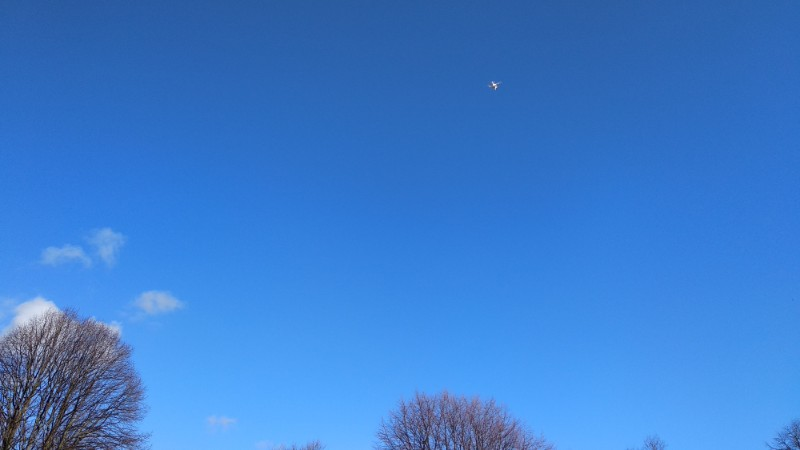drone: (487, 78, 501, 91)
